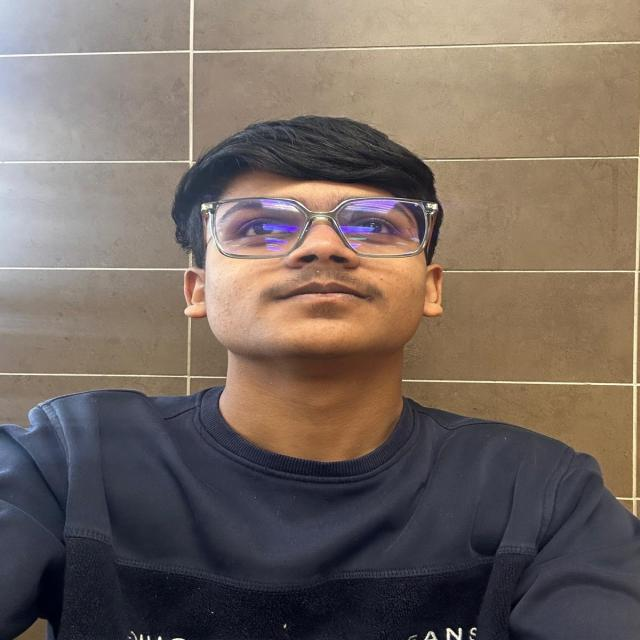nocap: (135, 112, 488, 235)
